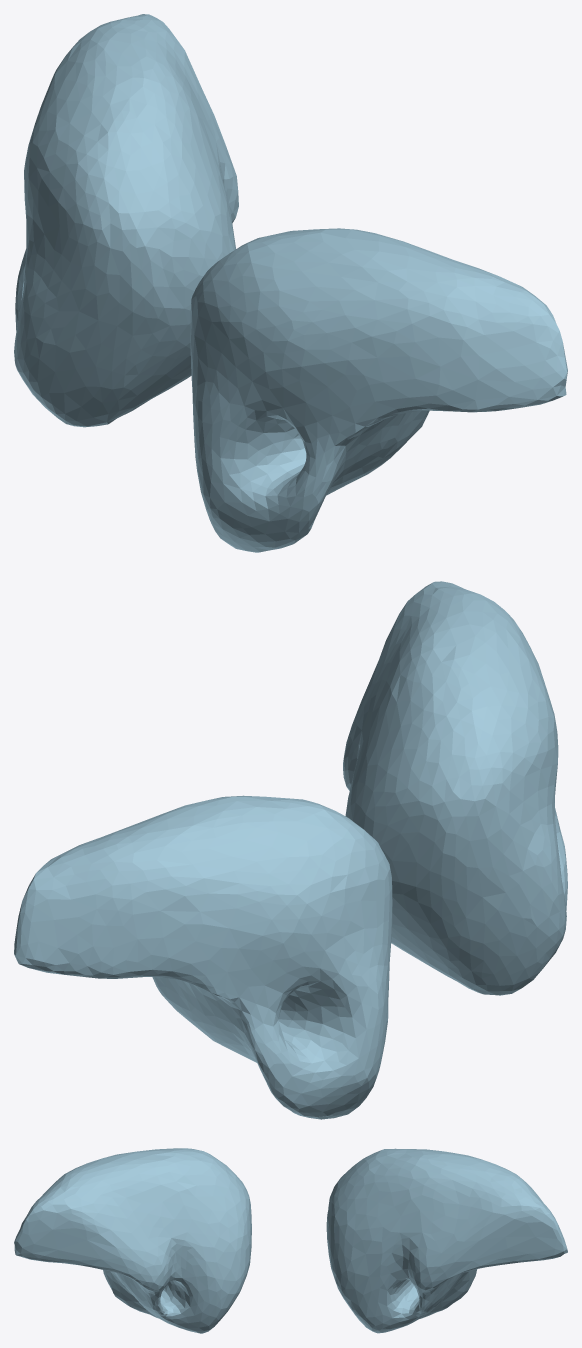
The picture shows the model from 3 angles, top to bottom: view 1: azimuth 30°, elevation 25°; view 2: azimuth 150°, elevation 25°; view 3: azimuth 270°, elevation 25°; orthographic projection. The views are drawn at different scales.
Visible parts, largest first — view 1: 56.obj; view 2: 56.obj; view 3: 56.obj.
Boxes of the visible parts, x1,y1,x2,y2 form: 56.obj: (14,14,567,552); 56.obj: (14,581,567,1119); 56.obj: (14,1148,567,1333).
Bounding box in the file's own units: 1585 × 1955 × 4992.
